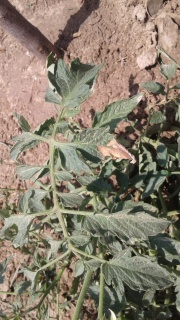tomato diseased leaf: (64, 128, 137, 165)
tomato plant: (51, 173, 180, 310)
